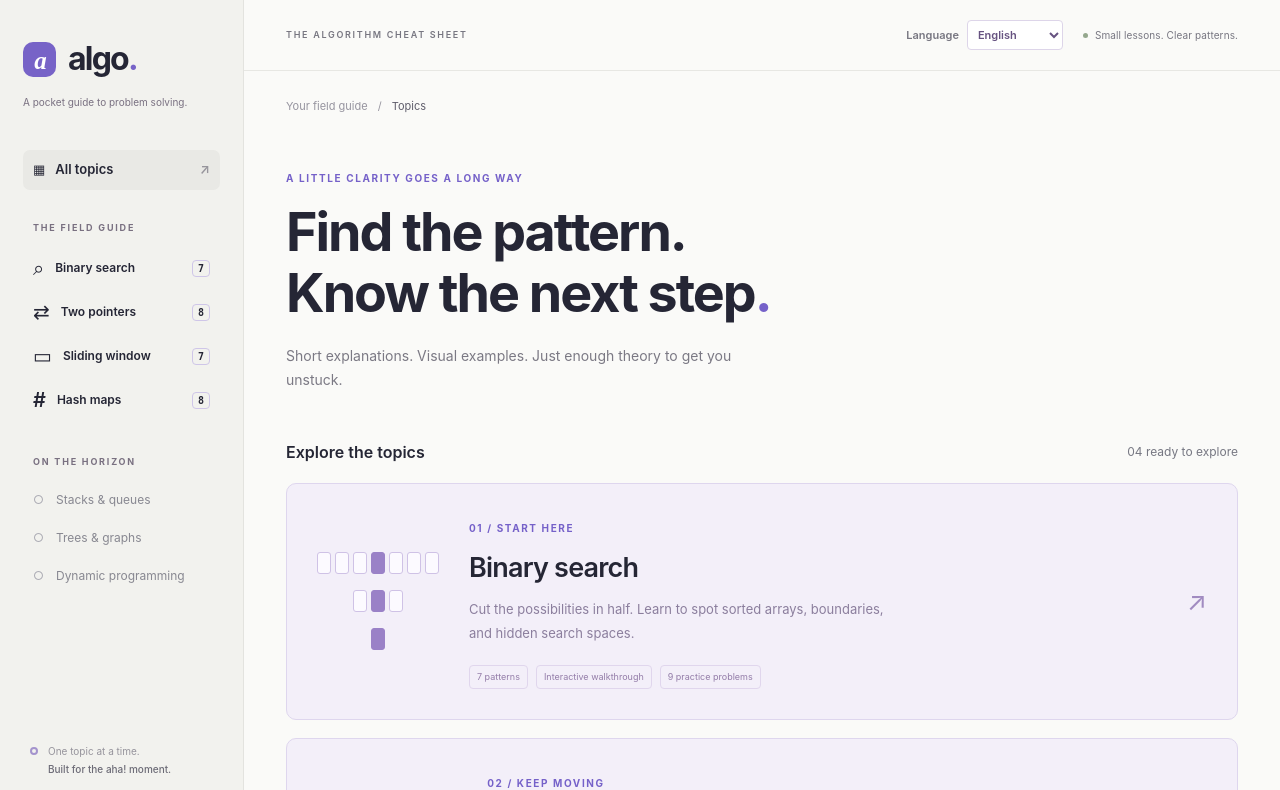
algorithm field guide › opens binary search from the topic list
What coordinates should you click on to do the following:
click the link "01 / Start here"
I would click on:
 (762, 601)
Its box is [286,483,1238,720].
(page scrolled)
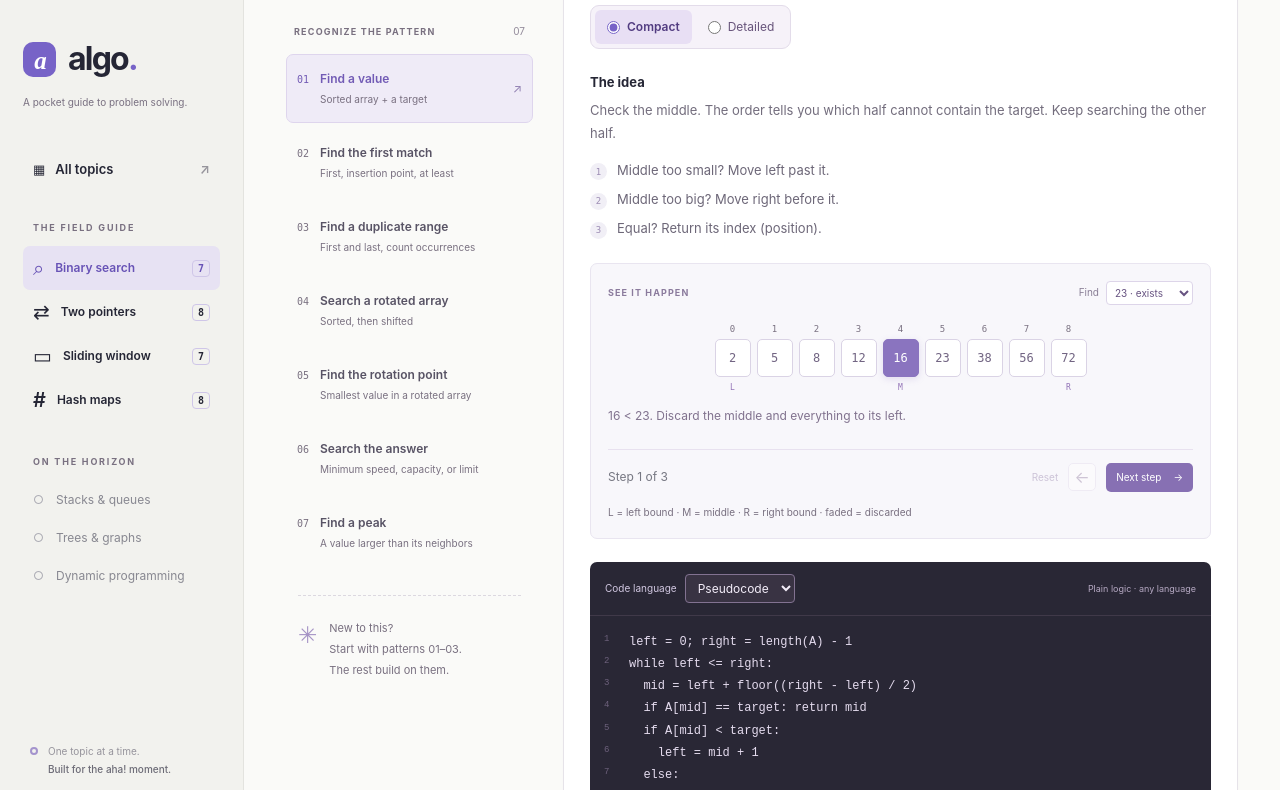
Result: the element named "Interactive binary search" is shown at [590,263,1211,539]
